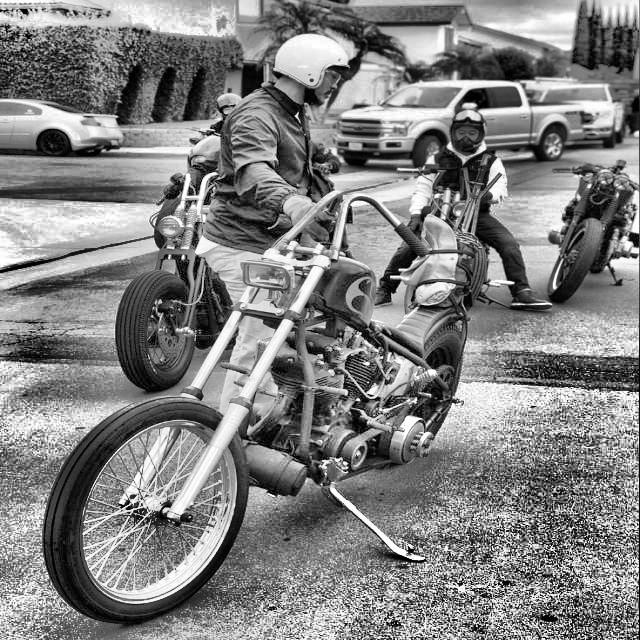Helmet: (268, 31, 353, 110)
